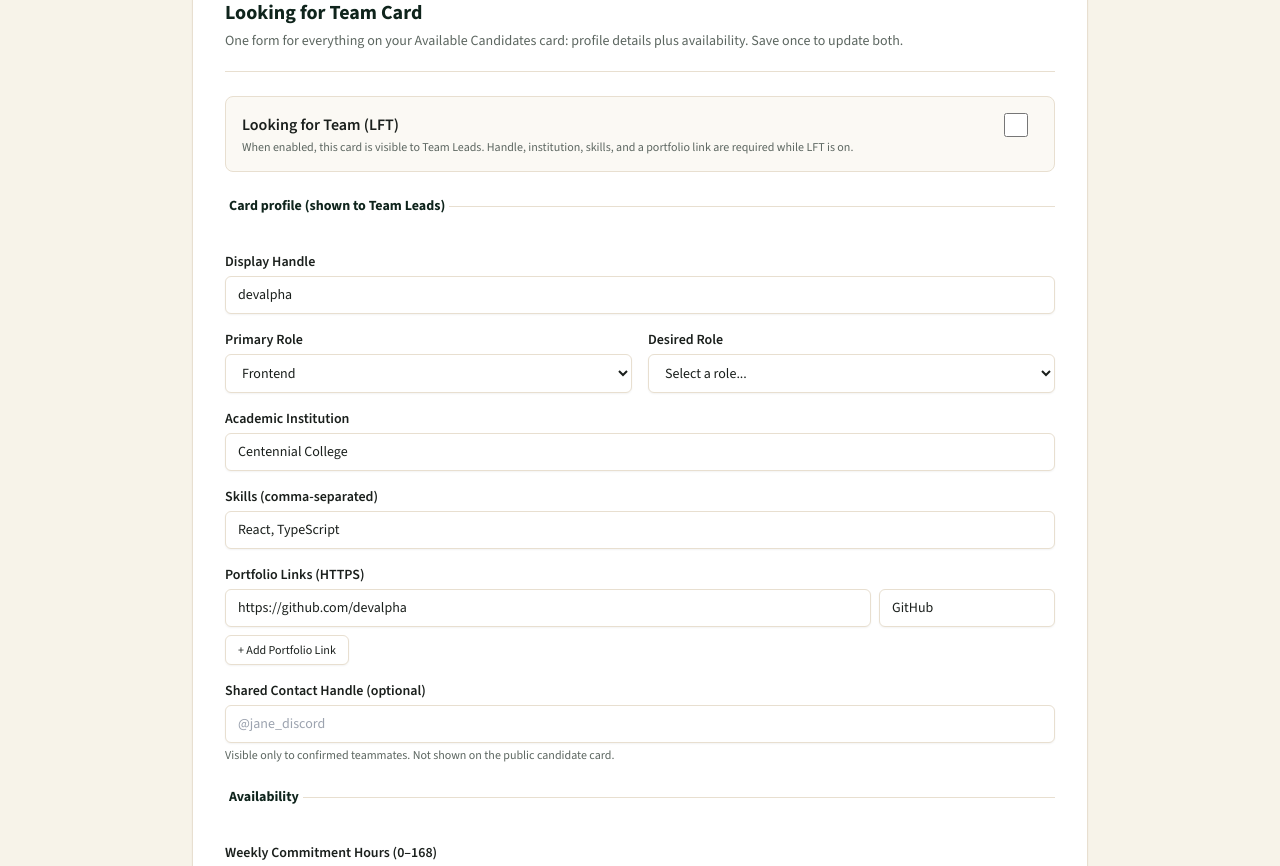
Test: LookingForTeamPage Component (US-011 / #US-288) › submits valid availability preferences and displays accessible confirmation status (AC 1 & AC 2)
Click the switch labelled "Looking for Team (LFT)" at (1016, 125), box [994,113,1038,137]
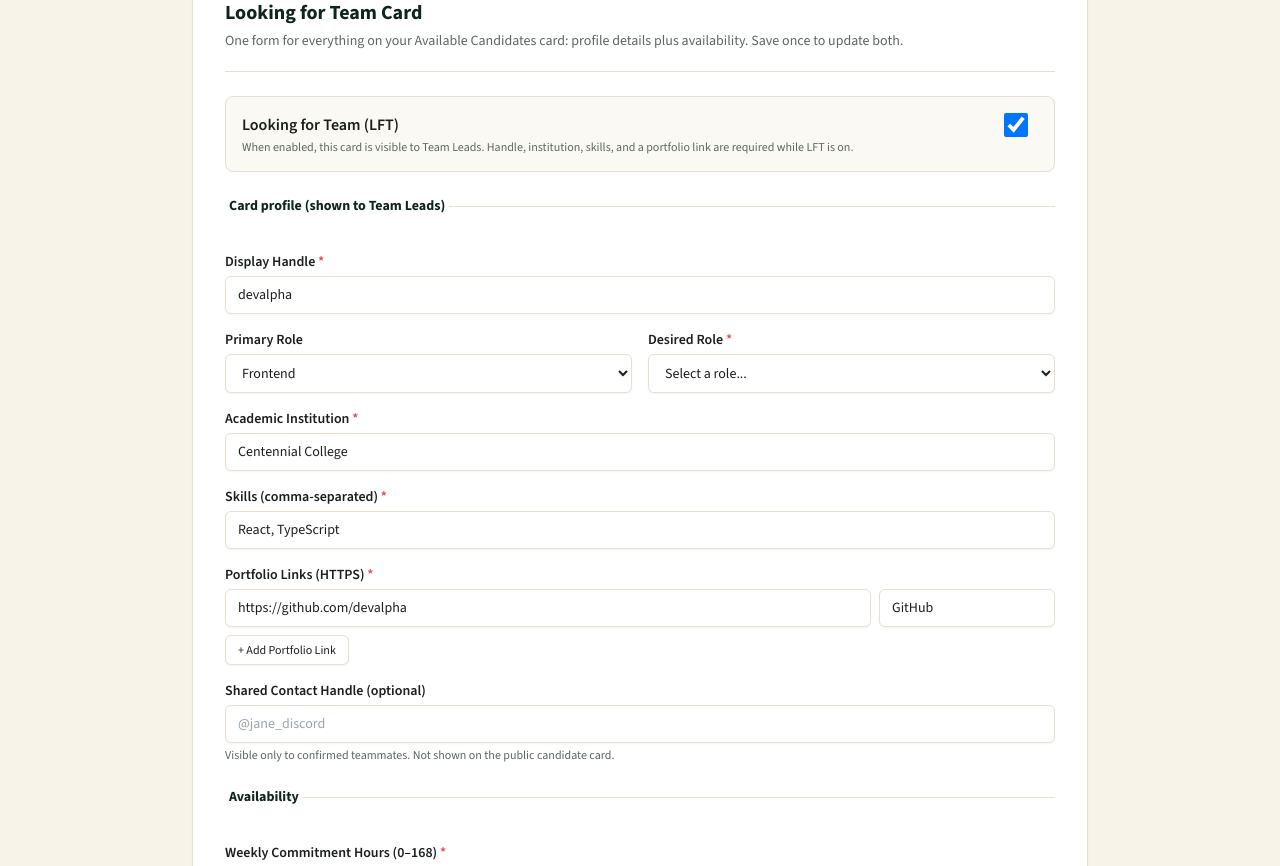
Select "Frontend" in the dropdown labelled "Desired Role *" at (852, 374), box [648,354,1055,393]
(page scrolled)
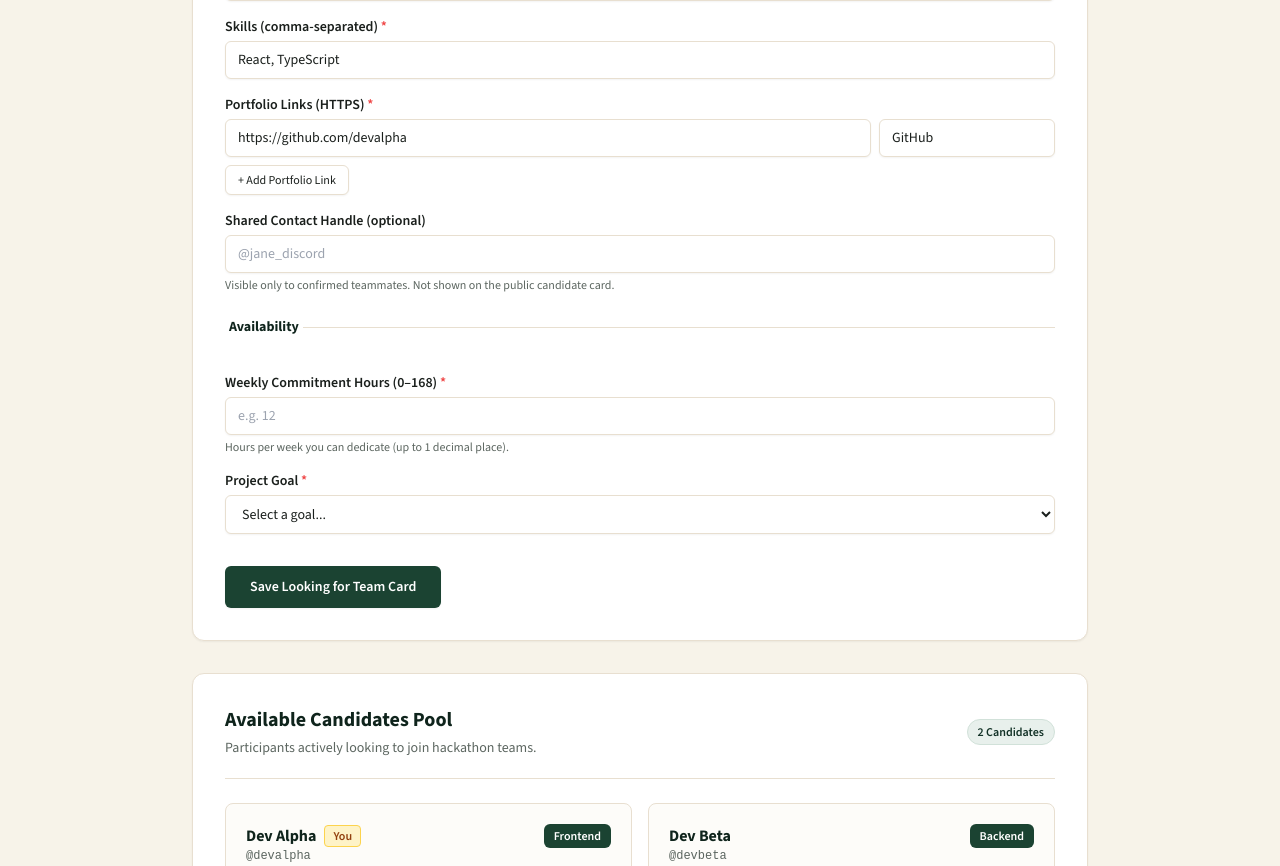
Type "25" into the number field labelled "Weekly Commitment Hours (0–168) *" at (640, 416), box [225,397,1055,435]
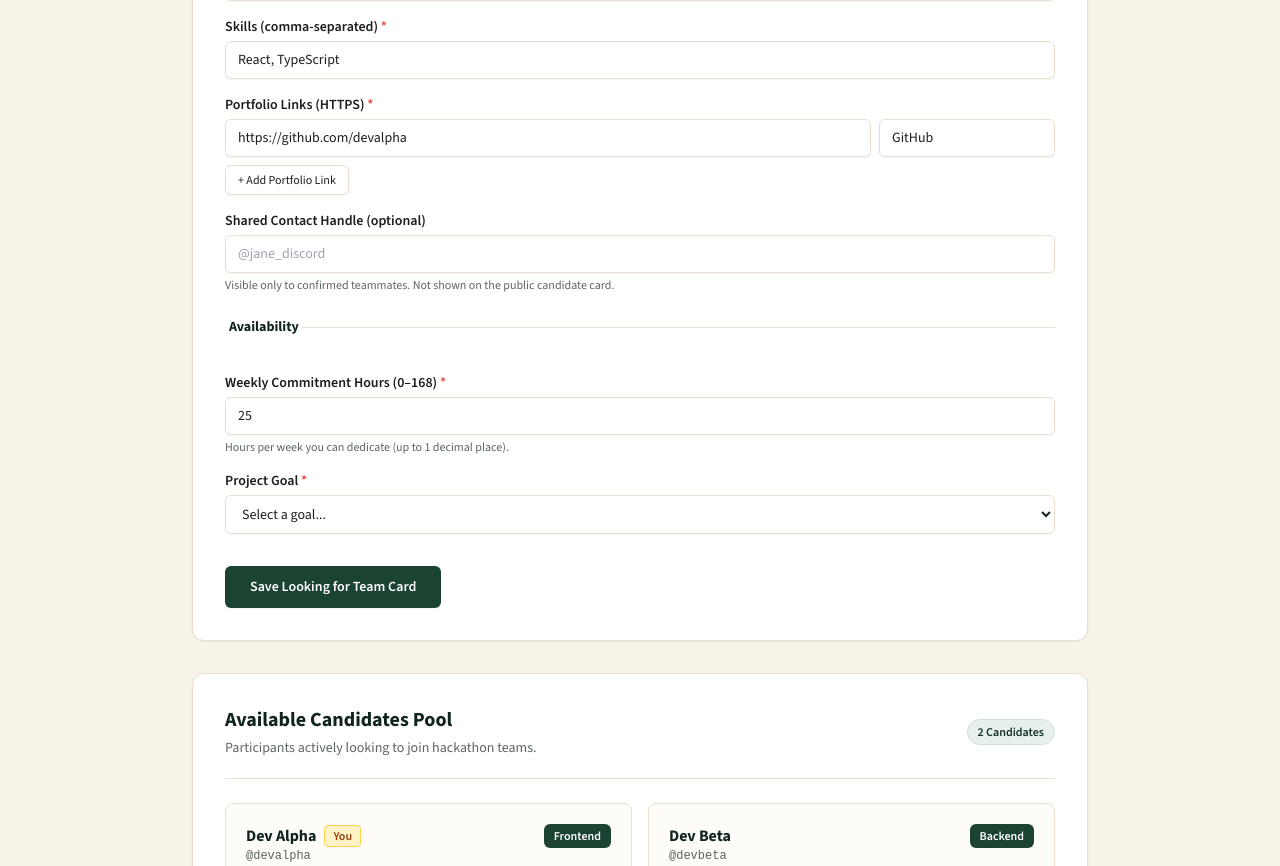
Select "Learning" in the dropdown labelled "Project Goal *" at (640, 514), box [225,495,1055,534]
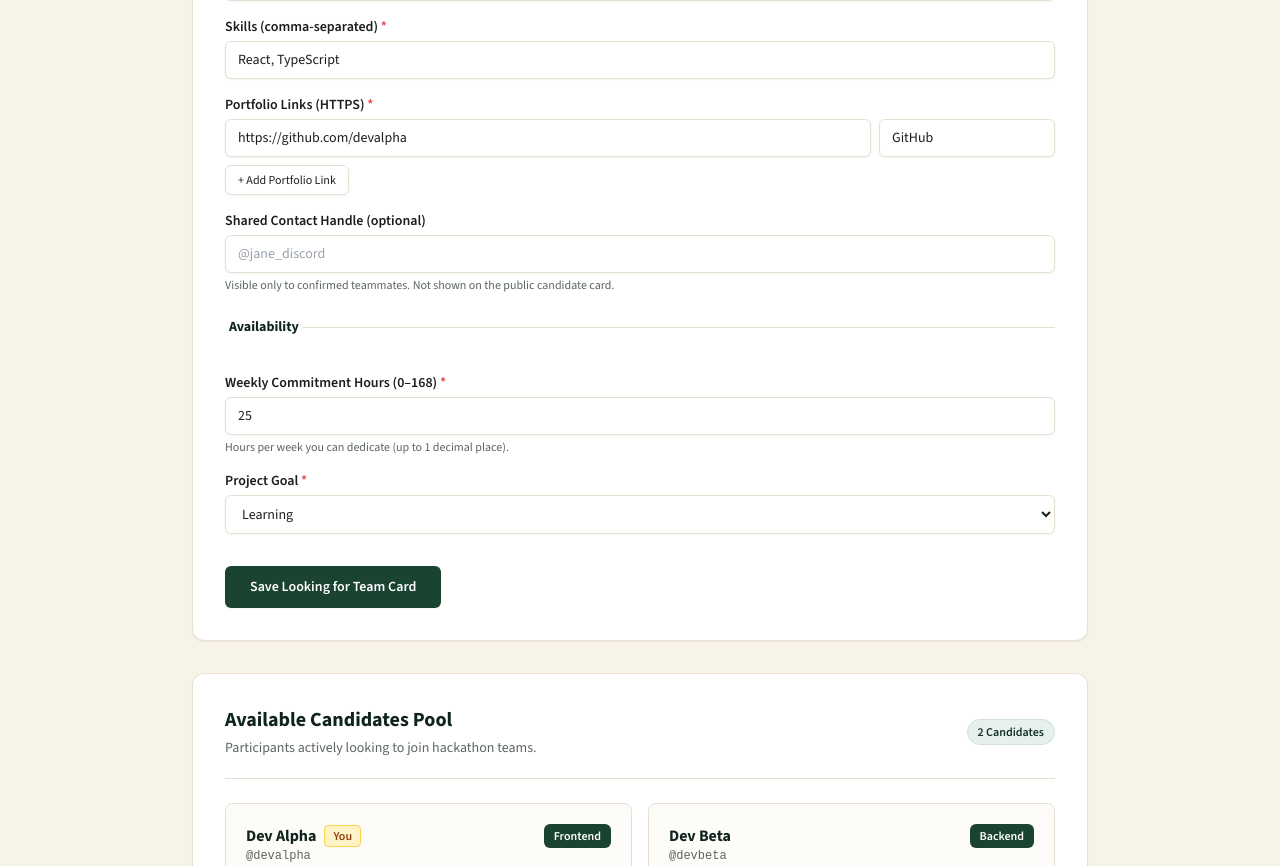
Click the button "Save Looking for Team Card" at (333, 587), box [225,566,441,608]
(page scrolled)
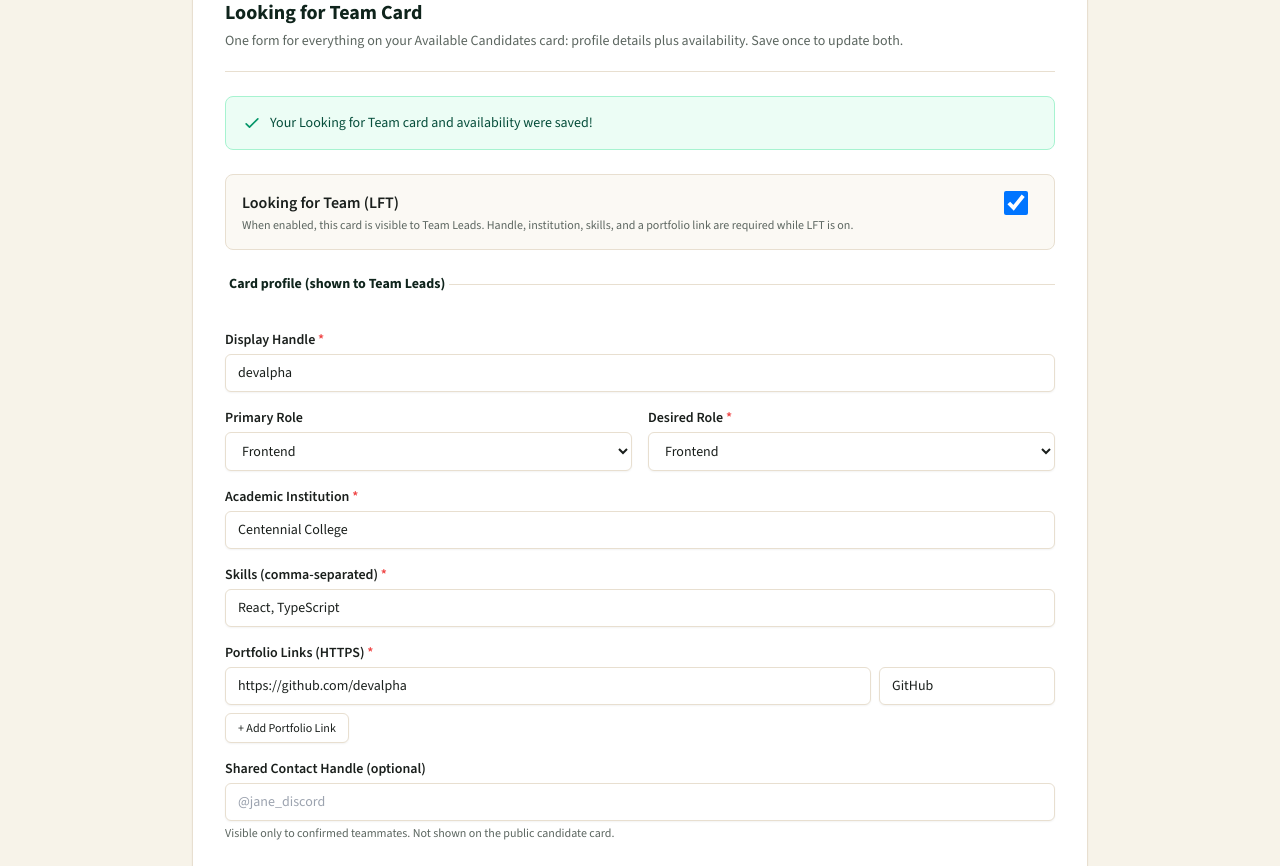
Check: the message shows "Looking for Team card and availability were saved", box [270,113,593,132]
